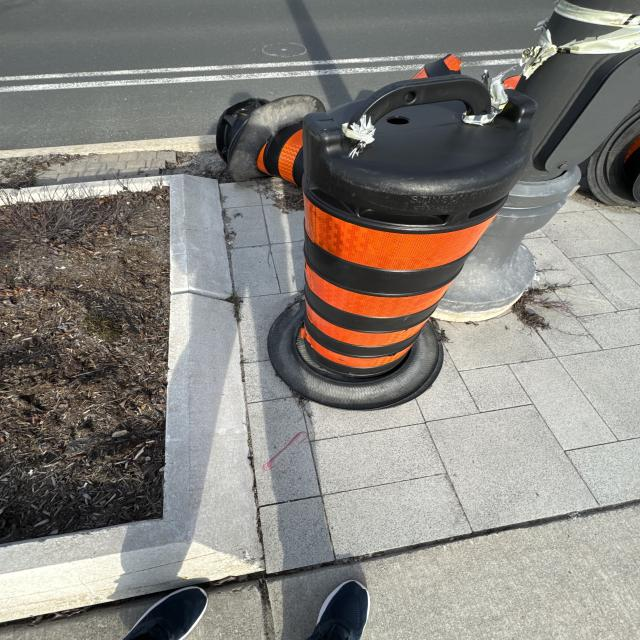Teraffic Barrel: (268, 75, 536, 409), (217, 54, 460, 186), (216, 94, 325, 182), (412, 54, 461, 79)
